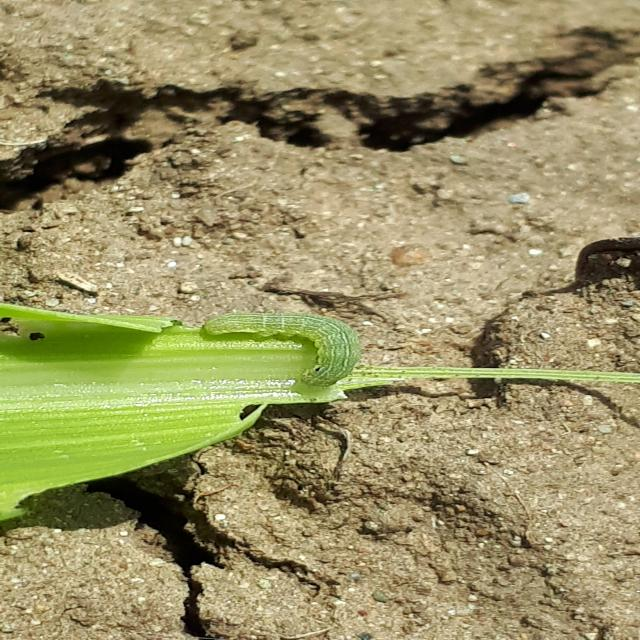armyworm: (203, 314, 370, 392)
